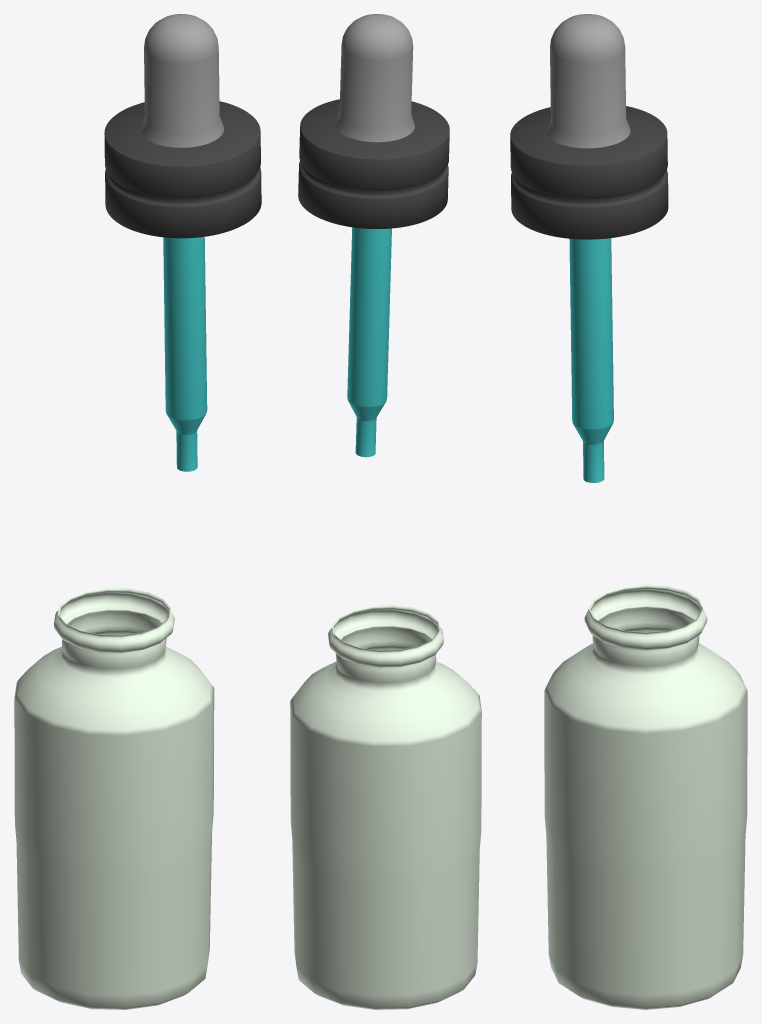
File: dropper.glb
3 views of the same model, side by side, from view 1: azimuth 30°, elevation 25°; view 2: azimuth 150°, elevation 25°; view 3: azimuth 270°, elevation 25° (orthographic). The views are drawn at different scales.
Visible parts, largest first — view 1: model_0.001, model_0.002, model_1, model_3; view 2: model_0.001, model_0.002, model_1, model_3; view 3: model_0.001, model_0.002, model_1, model_3.
Part boxes in pixels (left/top/right/bottom): model_0.001: left=14, top=587, right=214, bottom=1009; model_0.002: left=104, top=101, right=261, bottom=238; model_1: left=141, top=14, right=223, bottom=147; model_3: left=163, top=237, right=207, bottom=471; model_0.001: left=290, top=604, right=481, bottom=1009; model_0.002: left=298, top=99, right=449, bottom=228; model_1: left=335, top=14, right=414, bottom=142; model_3: left=347, top=227, right=391, bottom=457; model_0.001: left=544, top=584, right=747, bottom=1009; model_0.002: left=510, top=106, right=668, bottom=239; model_1: left=547, top=14, right=630, bottom=148; model_3: left=569, top=238, right=613, bottom=482.
Size of the model in its own units: 0.7531 by 3.56 by 0.7829.
